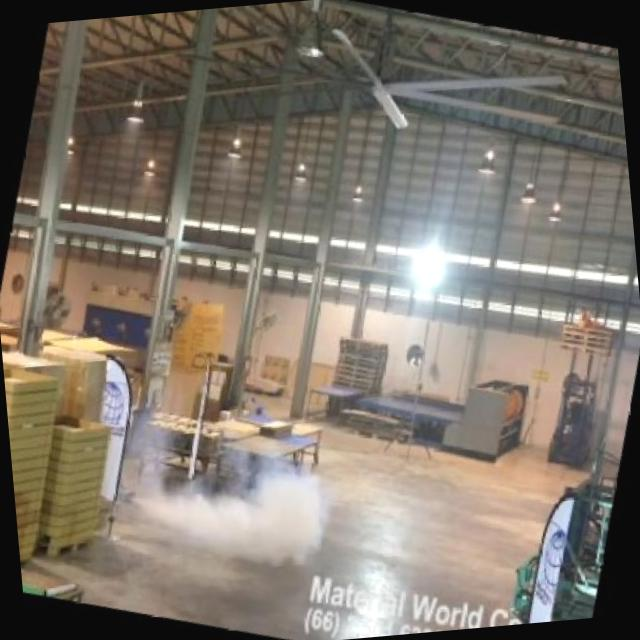smoke: (109, 393, 350, 598)
